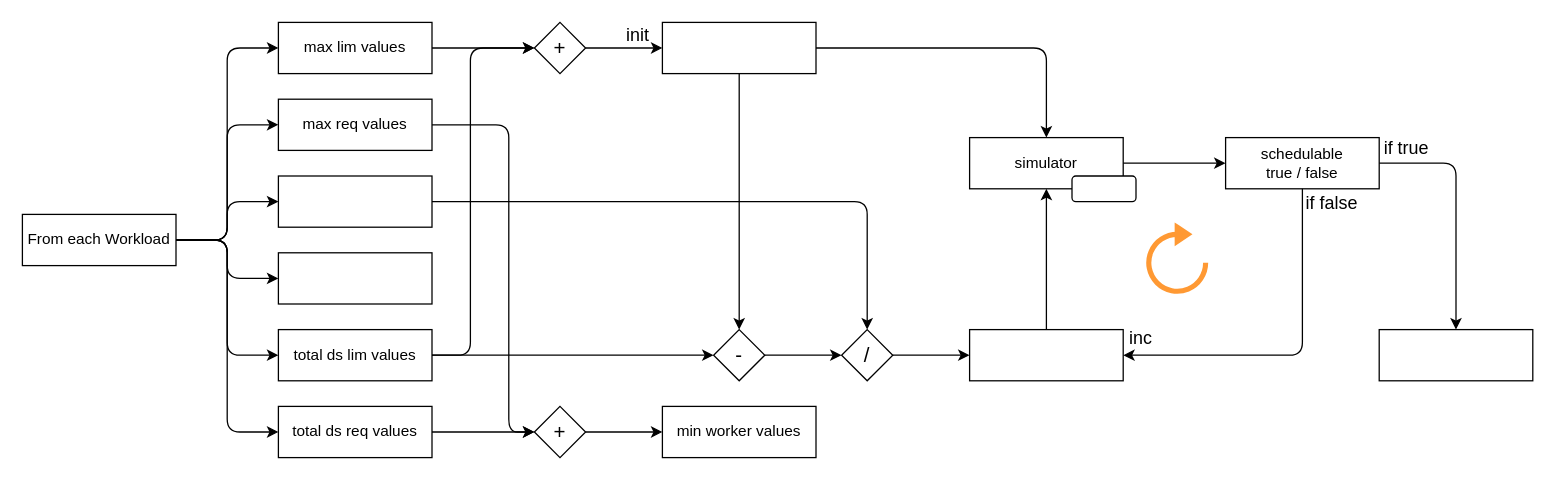
Some shapes in this 1555 by 480 pixel diagram are drawn without their labels. Here are the shapes that lost their labels. From the top down, the centre of each, then its label:
(x=738, y=47): node values
(x=354, y=201): total lim values
(x=1103, y=188): lim
(x=354, y=278): total req values
(x=1045, y=354): node count estimation
(x=1455, y=354): simulation is done node count is optimal
